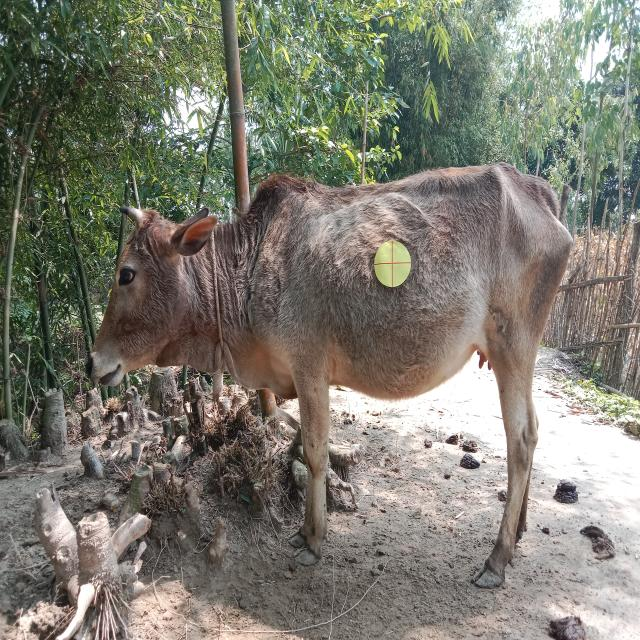badan_sapi: (284, 178, 574, 400)
sapi: (81, 155, 578, 606)
